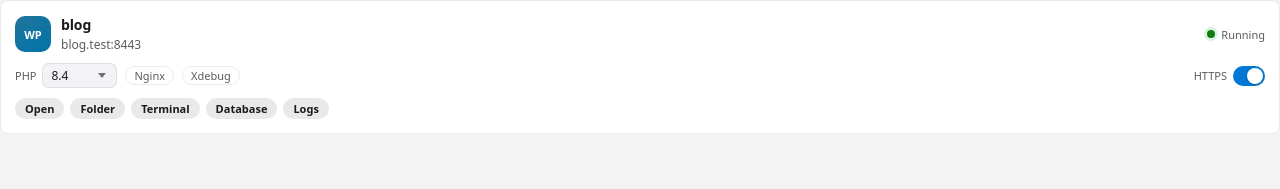
SiteTile › expands logs
The width and height of the screenshot is (1280, 189).
Click the button "Logs" at (306, 108), box x1=283 y1=98 x2=329 y2=119
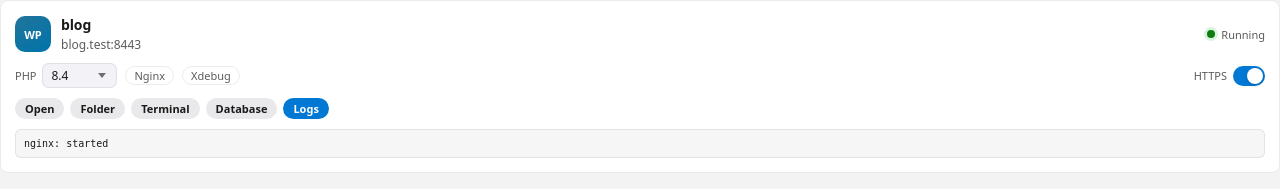
Check: the text "nginx: started" is shown, box x1=15 y1=129 x2=1265 y2=158
